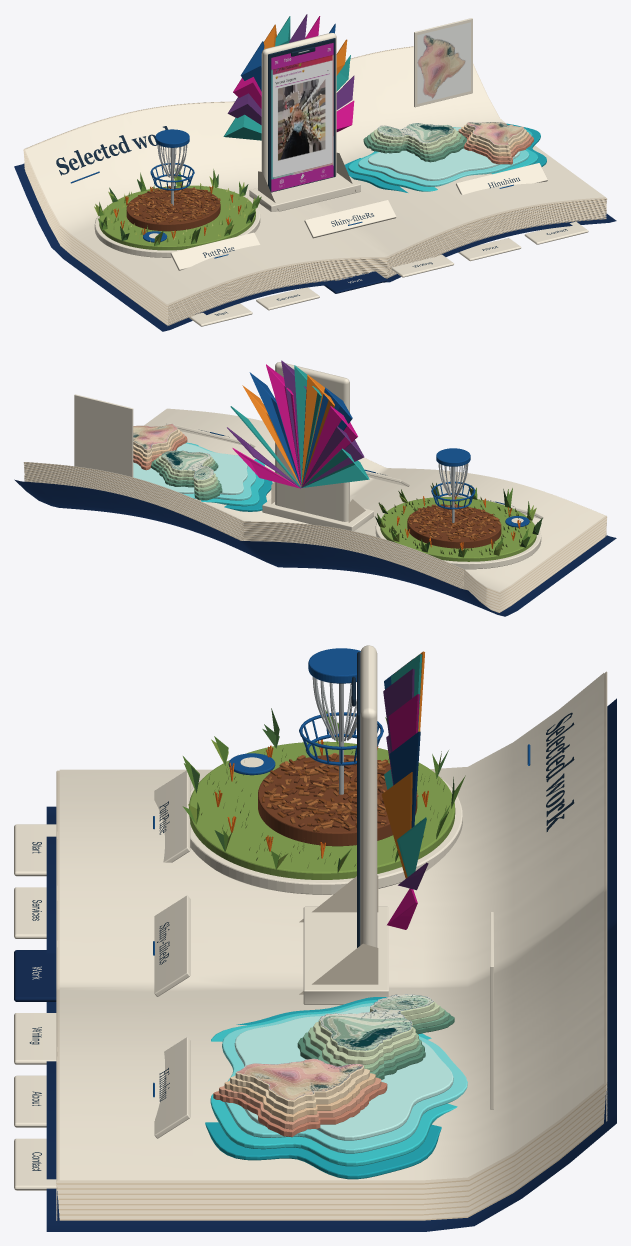
Rendered from work.glb.
The picture shows the model from 3 angles, top to bottom: view 1: azimuth 30°, elevation 25°; view 2: azimuth 150°, elevation 25°; view 3: azimuth 270°, elevation 25°; orthographic projection. The views are drawn at different scales.
Parts seen in each view (by area): view 1: Reading spread, Folded device support, Leaf fore-edge 2.83 1, Original application screen, Leaf fore-edge 2.83 0, Putting green layered grass, Disc embossed center, Cobalt lower cover, Altitude chart image, Paper leaf 00, Phone dark bezel, Mulch chip.002 (+32 smaller); view 2: Reading spread, Cobalt lower cover, Leaf fore-edge 2.83 1, Folded device support, Disc embossed center, Leaf fore-edge 2.83 0, Putting green layered grass, Shiny-filteRs phone shell, Folded filter fan, Folded filter fan.002, Paper leaf 00, Mulch chip.002 (+19 smaller); view 3: Reading spread, Folded device support, Cobalt lower cover, Putting green layered grass, Disc embossed center, Paper leaf 00, Layered ocean contour.003, Mulch chip.002, Shiny-filteRs phone shell, Layered ocean contour.002, Layered ocean contour.001, Layered ocean contour (+32 smaller).
Boxes of the visible parts, <box> form: Reading spread: <box>25,47,605,304</box>; Folded device support: <box>23,46,606,324</box>; Leaf fore-edge 2.83 1: <box>24,46,606,325</box>; Original application screen: <box>271,43,333,191</box>; Leaf fore-edge 2.83 0: <box>24,166,606,325</box>; Putting green layered grass: <box>99,185,255,250</box>; Disc embossed center: <box>94,18,472,283</box>; Cobalt lower cover: <box>14,163,616,331</box>; Altitude chart image: <box>417,22,470,103</box>; Paper leaf 00: <box>23,150,606,325</box>; Phone dark bezel: <box>56,38,567,315</box>; Mulch chip.002: <box>126,187,220,231</box>; Reading spread: <box>28,408,605,591</box>; Cobalt lower cover: <box>14,479,616,616</box>; Leaf fore-edge 2.83 1: <box>24,458,606,588</box>; Folded device support: <box>24,462,606,612</box>; Disc embossed center: <box>74,394,541,569</box>; Leaf fore-edge 2.83 0: <box>24,462,606,588</box>; Putting green layered grass: <box>380,497,536,561</box>; Shiny-filteRs phone shell: <box>275,362,349,521</box>; Folded filter fan: <box>232,364,357,488</box>; Folded filter fan.002: <box>230,365,369,487</box>; Paper leaf 00: <box>24,463,606,612</box>; Mulch chip.002: <box>407,505,501,548</box>; Reading spread: <box>59,673,603,1180</box>; Folded device support: <box>57,671,606,1219</box>; Cobalt lower cover: <box>46,698,616,1231</box>; Putting green layered grass: <box>189,741,455,879</box>; Disc embossed center: <box>32,757,493,1109</box>; Paper leaf 00: <box>57,1084,606,1220</box>; Layered ocean contour.003: <box>234,1006,453,1140</box>; Mulch chip.002: <box>258,754,417,846</box>; Shiny-filteRs phone shell: <box>360,645,377,947</box>; Layered ocean contour.002: <box>222,1003,467,1153</box>; Layered ocean contour.001: <box>210,999,457,1166</box>; Layered ocean contour: <box>205,997,441,1179</box>.
Size of the model in its own units: 10.39 by 4.26 by 6.21.
Materials: 37 (2 with a texture image).
